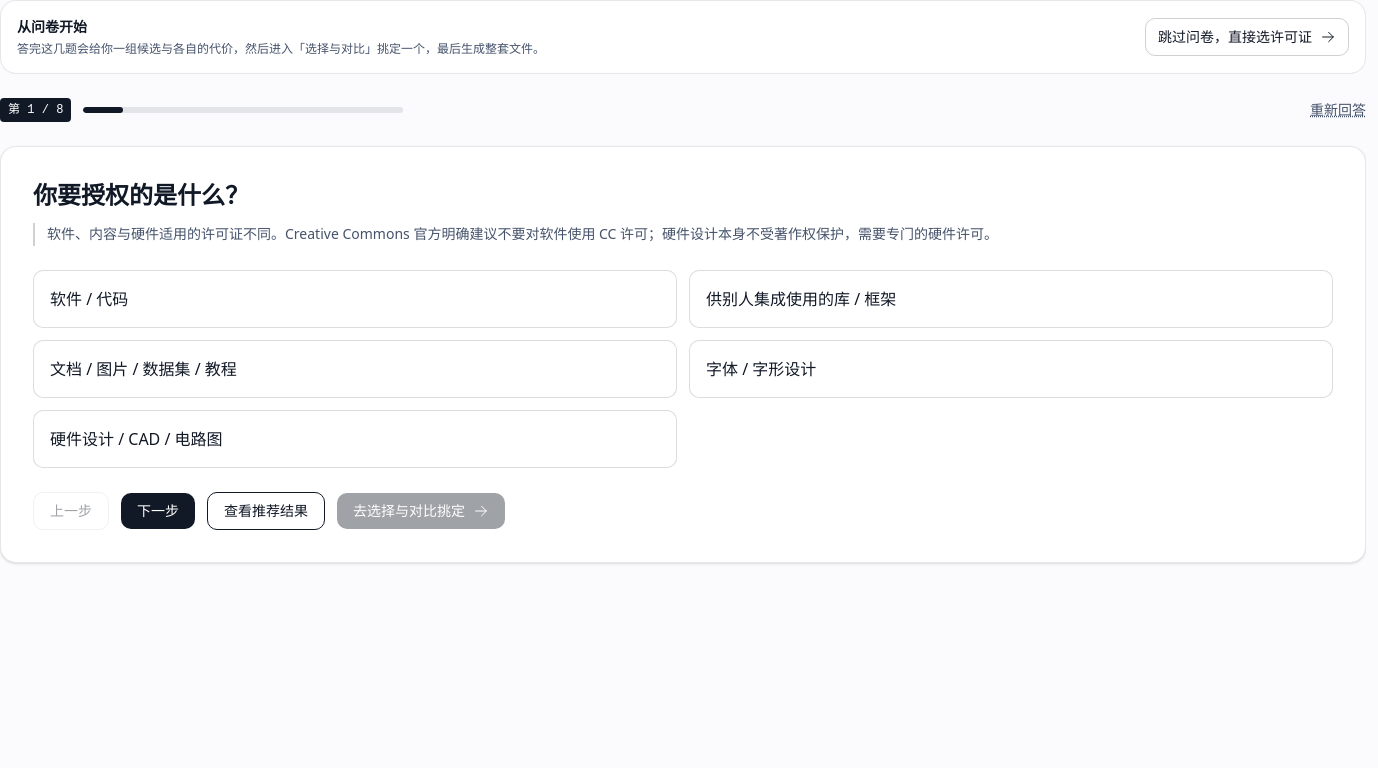
Test: Wizard（问卷第一步） › 点选项后该项标记为已选，并自动进入下一题
This screenshot has width=1378, height=768.
Later steps or results of the test are not shown.
Click the button "软件 / 代码" at [89, 299], box x1=33 y1=270 x2=677 y2=328
Wait 300 ms
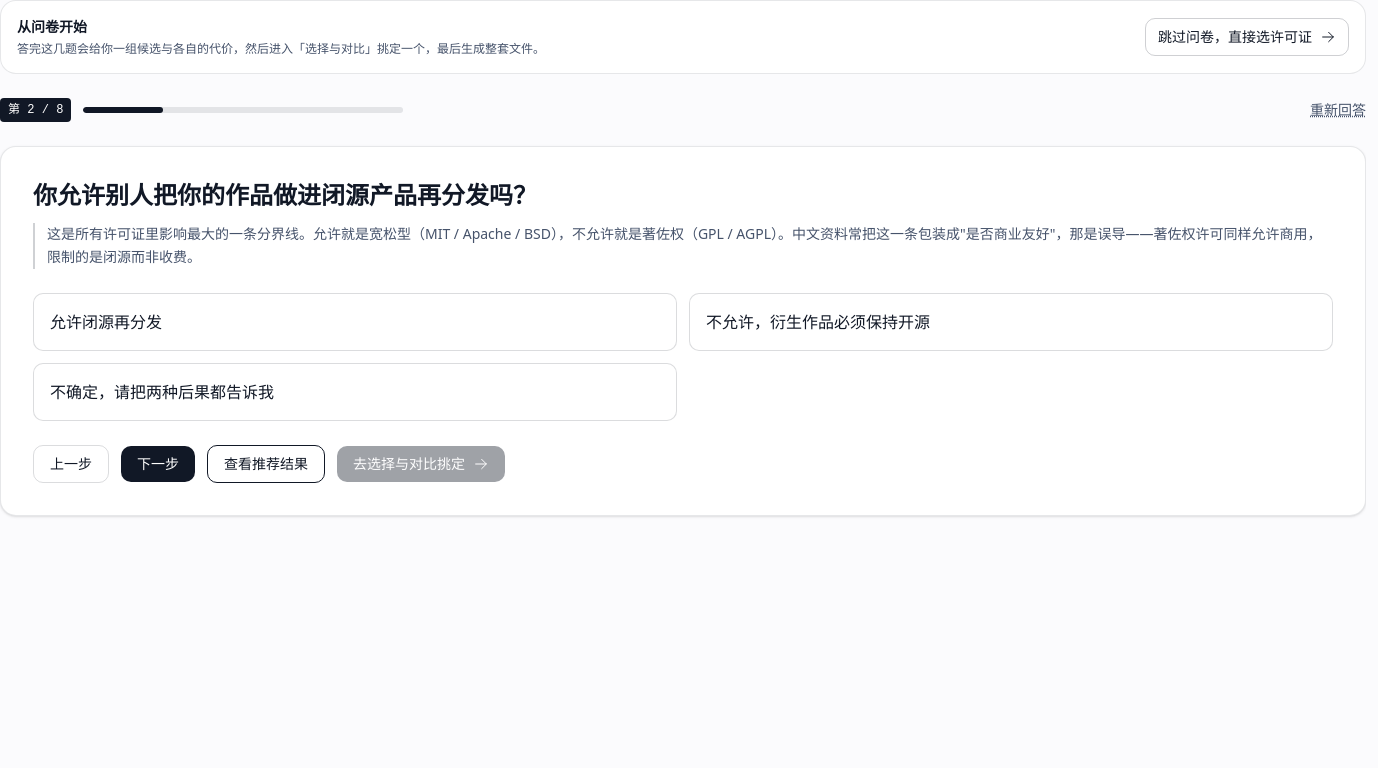
Expected: the heading "你允许别人把你的作品做进闭源产品再分发吗？" is shown, x1=33 y1=178 x2=537 y2=211
